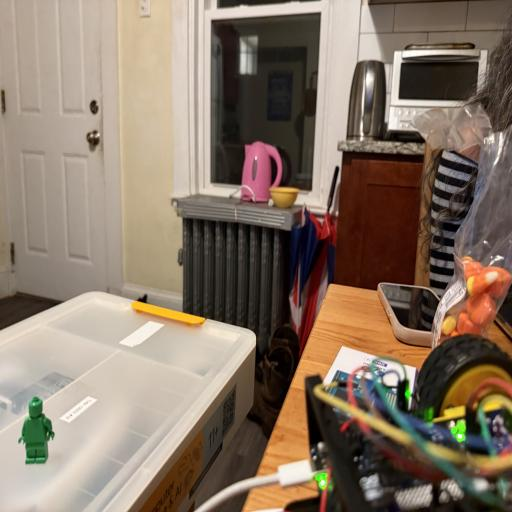Minifig: (18, 397, 54, 464)
